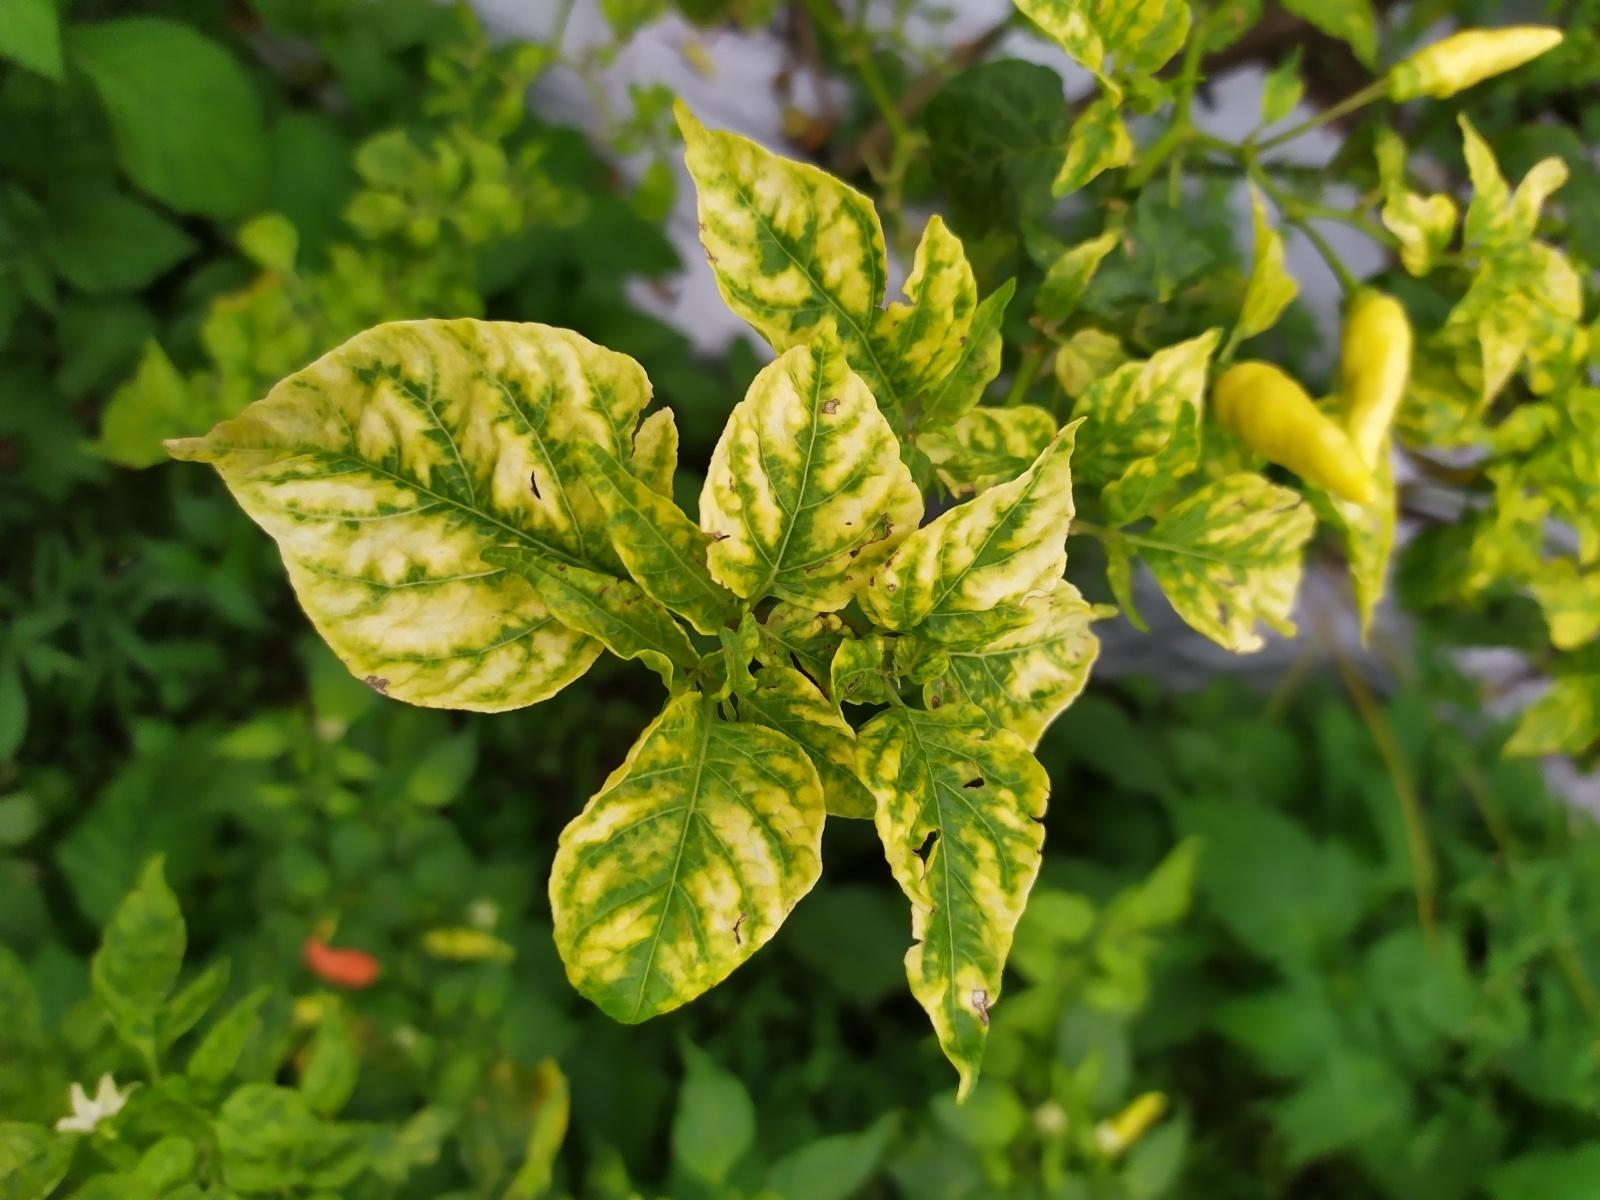cabai_normal: (1213, 359, 1381, 508), (1335, 286, 1417, 474), (1390, 26, 1563, 103)
